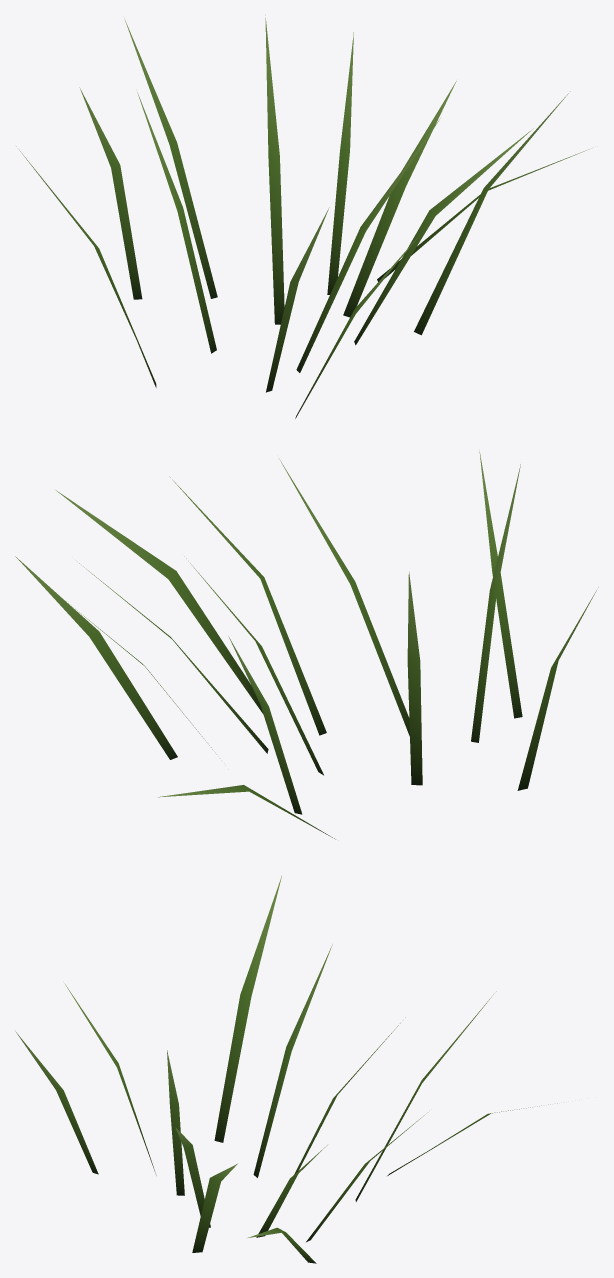
File: b612_veg_VL_Grass_Short_B_1.glb
3 renders of one model, top to bottom at view 1: azimuth 30°, elevation 25°; view 2: azimuth 150°, elevation 25°; view 3: azimuth 270°, elevation 25°, orthographic. The views are drawn at different scales.
Visible parts, largest first — view 1: Grass_Short_B_LOD1; view 2: Grass_Short_B_LOD1; view 3: Grass_Short_B_LOD1.
Part boxes in pixels (left/top/right/bottom): Grass_Short_B_LOD1: left=16, top=15, right=589, bottom=418; Grass_Short_B_LOD1: left=15, top=451, right=598, bottom=839; Grass_Short_B_LOD1: left=15, top=876, right=557, bottom=1263.
Bounding box in the file's own units: 0.2543 × 0.1046 × 0.2507.
